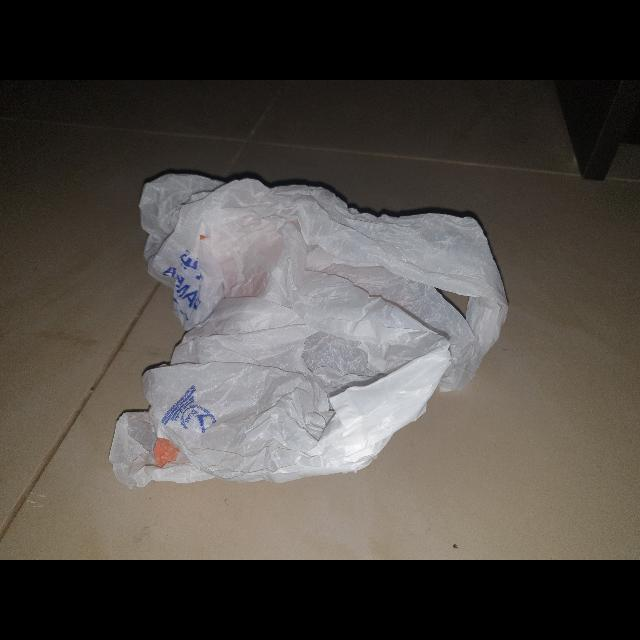plastic_bag: (95, 160, 521, 500)
